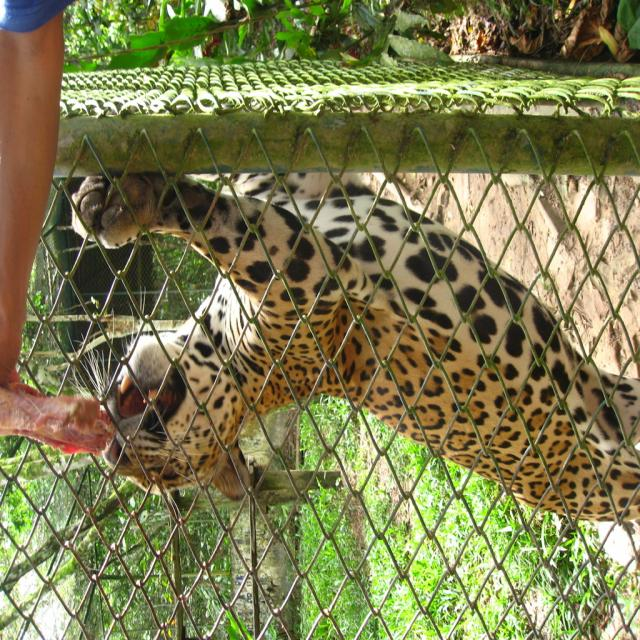Cheetah: (52, 172, 640, 522)
